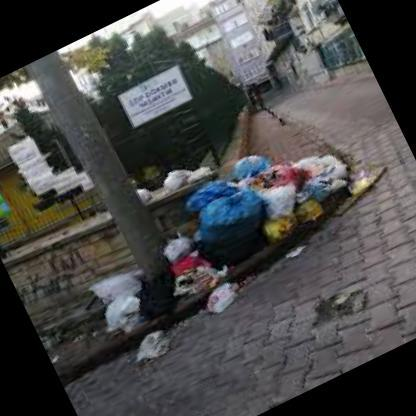Garbage: (194, 187, 276, 273), (84, 260, 143, 310), (160, 223, 210, 280), (257, 176, 306, 228), (288, 166, 340, 215), (185, 172, 238, 216), (257, 153, 308, 197), (207, 275, 258, 314), (97, 296, 144, 338), (131, 322, 176, 363), (138, 277, 176, 320), (224, 146, 269, 180), (180, 155, 224, 188), (186, 263, 234, 293), (320, 148, 353, 188), (264, 212, 304, 242), (296, 144, 332, 176), (300, 197, 336, 228), (165, 164, 193, 189), (284, 244, 312, 263), (358, 166, 380, 190), (138, 180, 157, 202)
